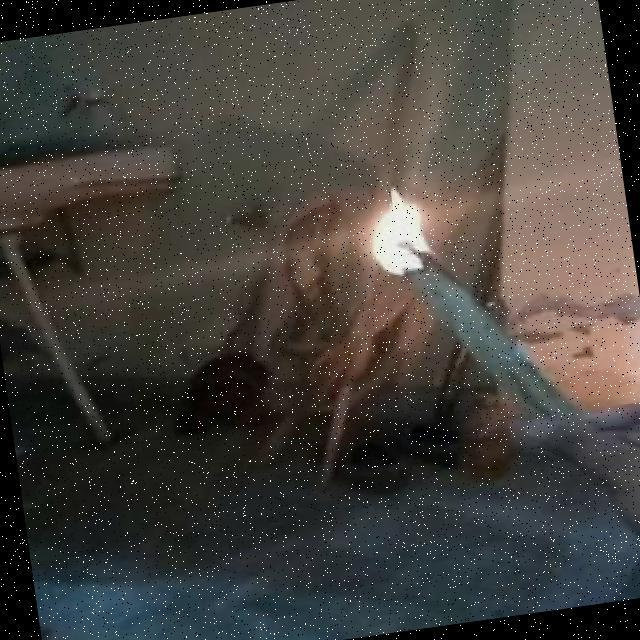Fire: (328, 170, 484, 301)
